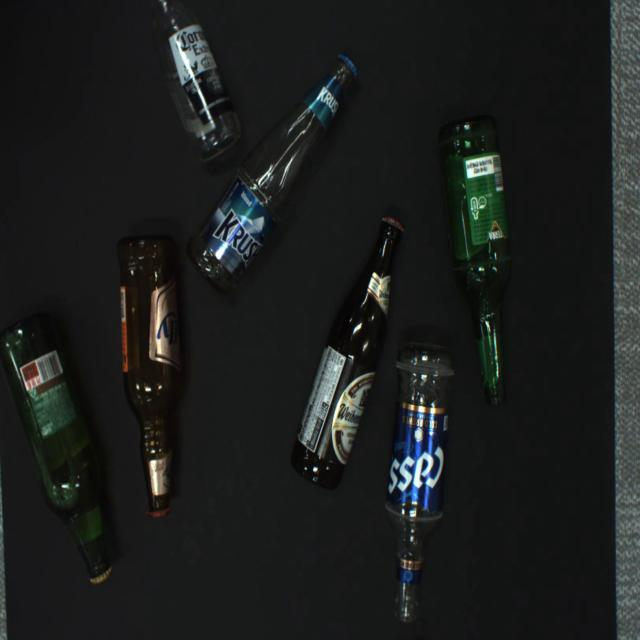beer-bottle: (186, 54, 357, 295), (0, 313, 113, 586), (290, 218, 401, 490), (439, 116, 512, 408), (383, 342, 457, 624), (117, 234, 186, 518), (146, 0, 242, 162)
